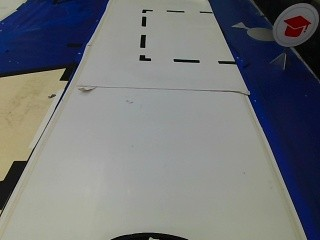school: (271, 3, 318, 49)
